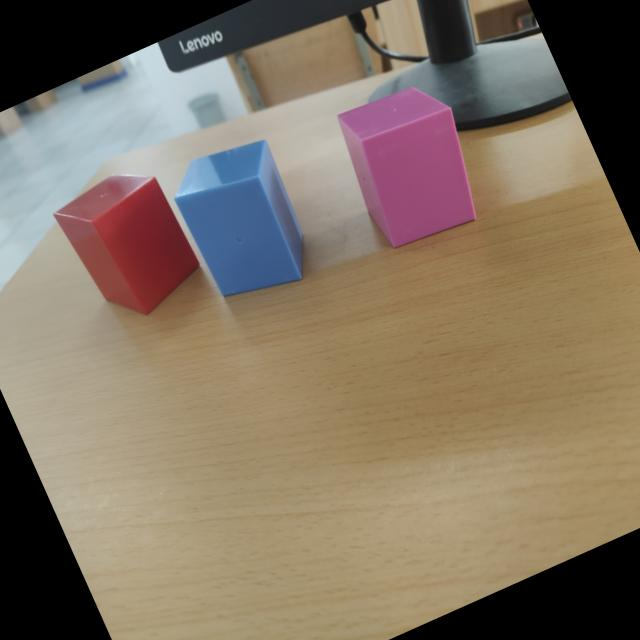blue: (176, 141, 304, 298)
pink: (338, 89, 478, 250)
red: (56, 175, 202, 317)
